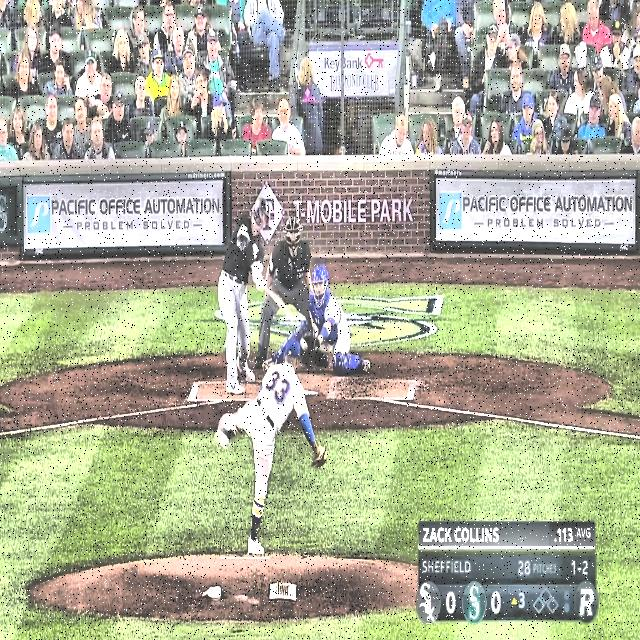baseball: (299, 338, 310, 353)
